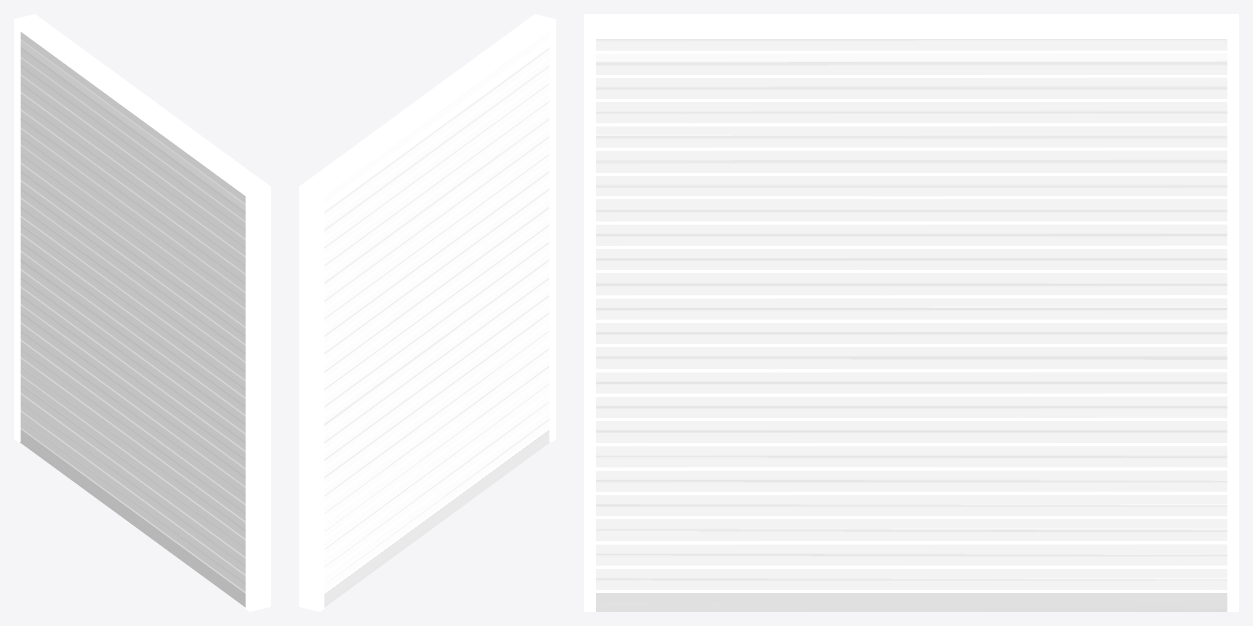
File: standard_door.98590e20.gltf
3 views of the same model, side by side, from view 1: azimuth 30°, elevation 25°; view 2: azimuth 150°, elevation 25°; view 3: azimuth 270°, elevation 25° (orthographic). The views are drawn at different scales.
Parts seen in each view (by area): view 1: Door, trim; view 2: Door, trim; view 3: Door, trim.
Part boxes in pixels (x1,y1,x2,y2): Door: (20, 32, 245, 607); trim: (14, 14, 270, 611); Door: (324, 32, 549, 607); trim: (299, 14, 555, 611); Door: (596, 39, 1227, 611); trim: (584, 14, 1238, 611).
Bounding box in the file's own units: 0.3132 × 6.01 × 6.1.
Materials: 2 (1 with a texture image).
